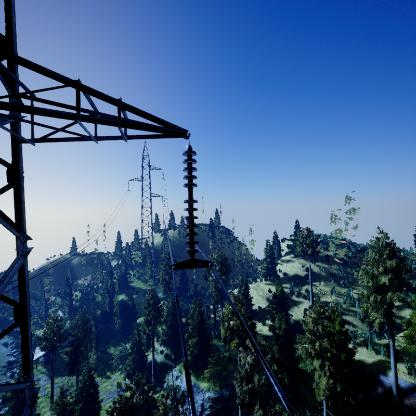insulator: (178, 144, 201, 259)
tower: (123, 138, 172, 250)
